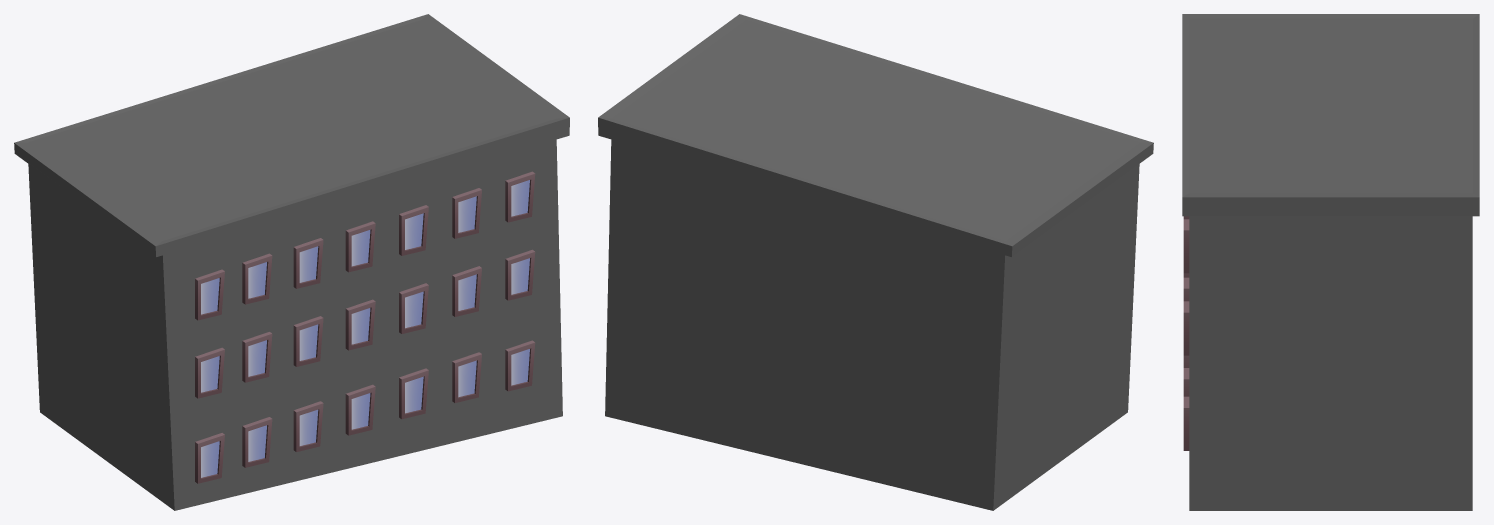
File: SM_Building1.fbx
3 renders of one model, left to right at view 1: azimuth 30°, elevation 25°; view 2: azimuth 150°, elevation 25°; view 3: azimuth 270°, elevation 25°, orthographic. The views are drawn at different scales.
Parts seen in each view (by area): view 1: Cube.063; view 2: Cube.063; view 3: Cube.063.
Part boxes in pixels (<box>): Cube.063: <box>14,14,569,510</box>; Cube.063: <box>598,14,1153,510</box>; Cube.063: <box>1182,14,1479,510</box>.
Bounding box in the file's own units: 37.76 × 26.16 × 22.34.
